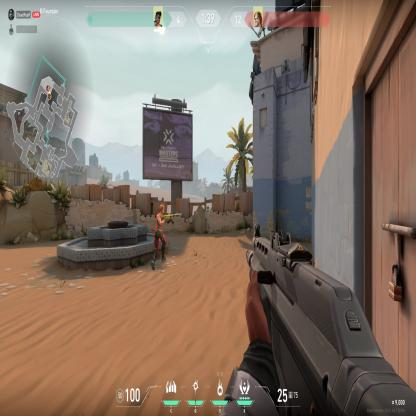enemy: (150, 203, 174, 273)
